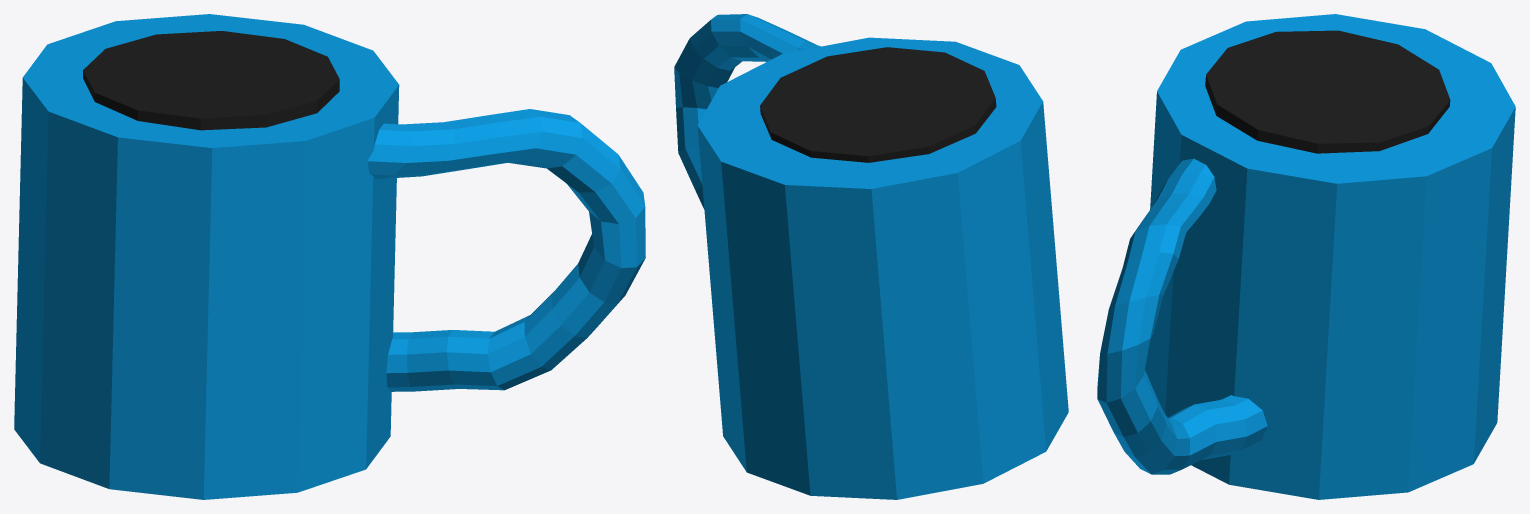
The model's file is mug.fbx.
The picture shows the model from 3 angles, left to right: view 1: azimuth 30°, elevation 25°; view 2: azimuth 150°, elevation 25°; view 3: azimuth 270°, elevation 25°; orthographic projection. The views are drawn at different scales.
Parts seen in each view (by area): view 1: mesh_1341431291, group_1824539908, mesh_2016871029; view 2: mesh_1341431291, mesh_2016871029, group_1824539908; view 3: mesh_1341431291, mesh_2016871029, group_1824539908.
Boxes of the visible parts, x1,y1,x2,y2 form: mesh_1341431291: [14, 14, 399, 499]; group_1824539908: [367, 109, 645, 391]; mesh_2016871029: [83, 31, 339, 130]; mesh_1341431291: [697, 37, 1068, 499]; mesh_2016871029: [760, 47, 996, 162]; group_1824539908: [674, 14, 820, 209]; mesh_1341431291: [1145, 14, 1515, 499]; mesh_2016871029: [1205, 30, 1450, 153]; group_1824539908: [1097, 158, 1267, 474].
Bounding box in the file's own units: 29.21 × 20.8 × 22.14.
